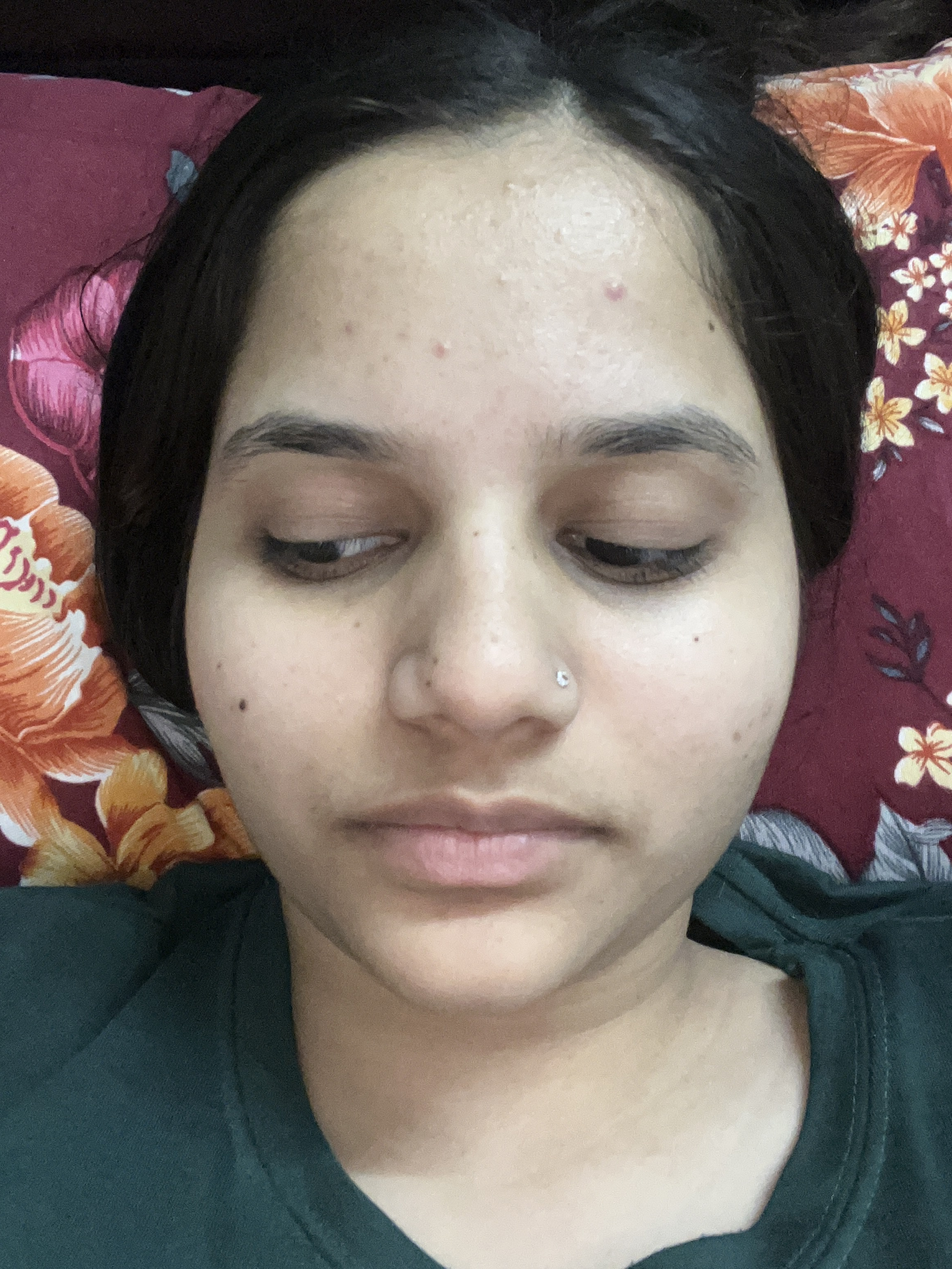closed_comedone: (491, 260, 532, 312), (497, 168, 525, 204)
papule: (596, 270, 646, 312), (421, 334, 464, 369)
